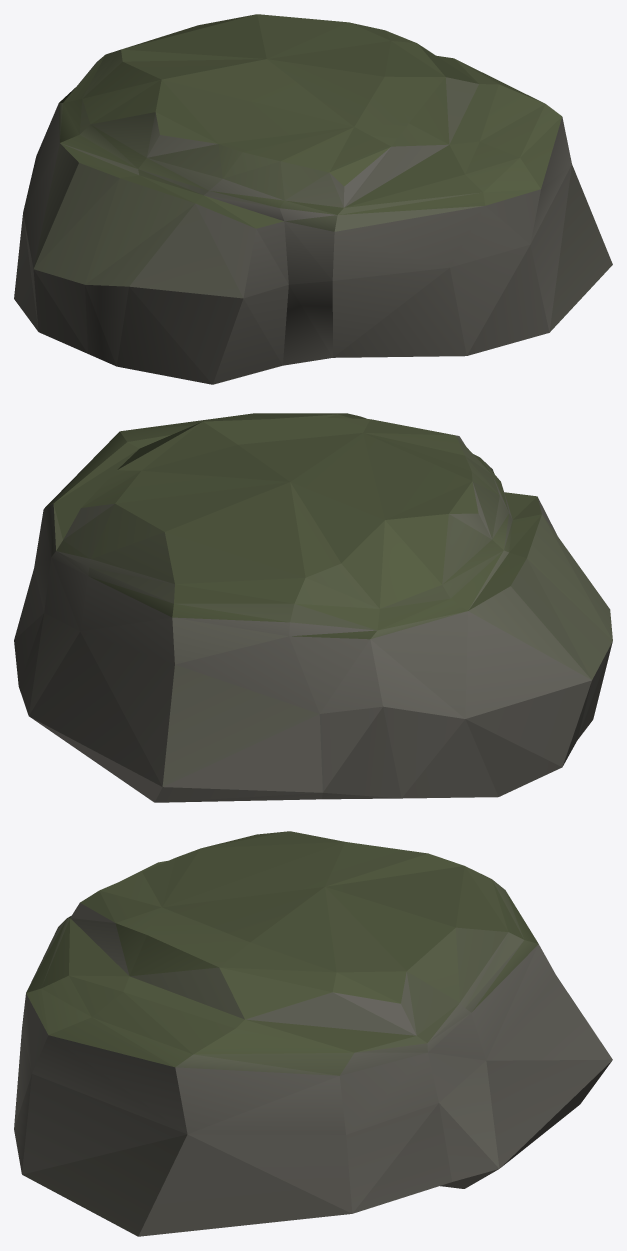
The model's file is batu.fbx.
3 renders of one model, top to bottom at view 1: azimuth 30°, elevation 25°; view 2: azimuth 150°, elevation 25°; view 3: azimuth 270°, elevation 25°, orthographic. The views are drawn at different scales.
Visible parts, largest first — view 1: batu; view 2: batu; view 3: batu.
Part boxes in pixels (bbox=[...]): batu: bbox=[14, 14, 612, 384]; batu: bbox=[14, 413, 612, 802]; batu: bbox=[14, 831, 612, 1236].
Bounding box in the file's own units: 1.6 × 0.6859 × 1.53.
